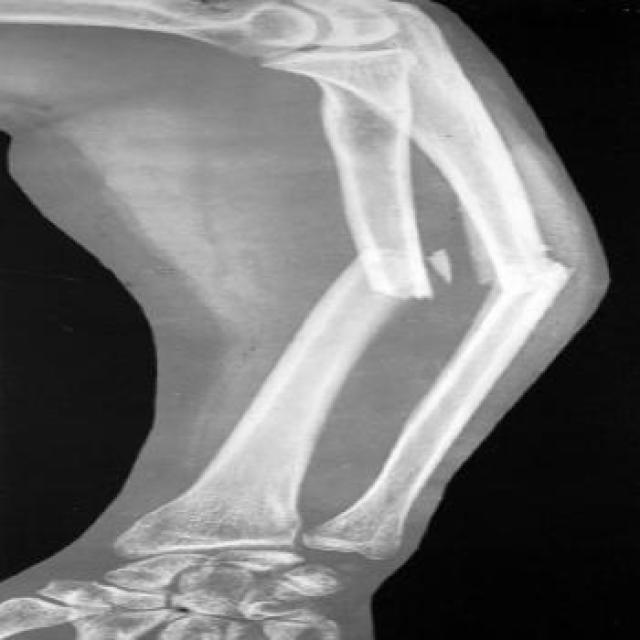fracture: (316, 239, 456, 311), (478, 246, 594, 301)
